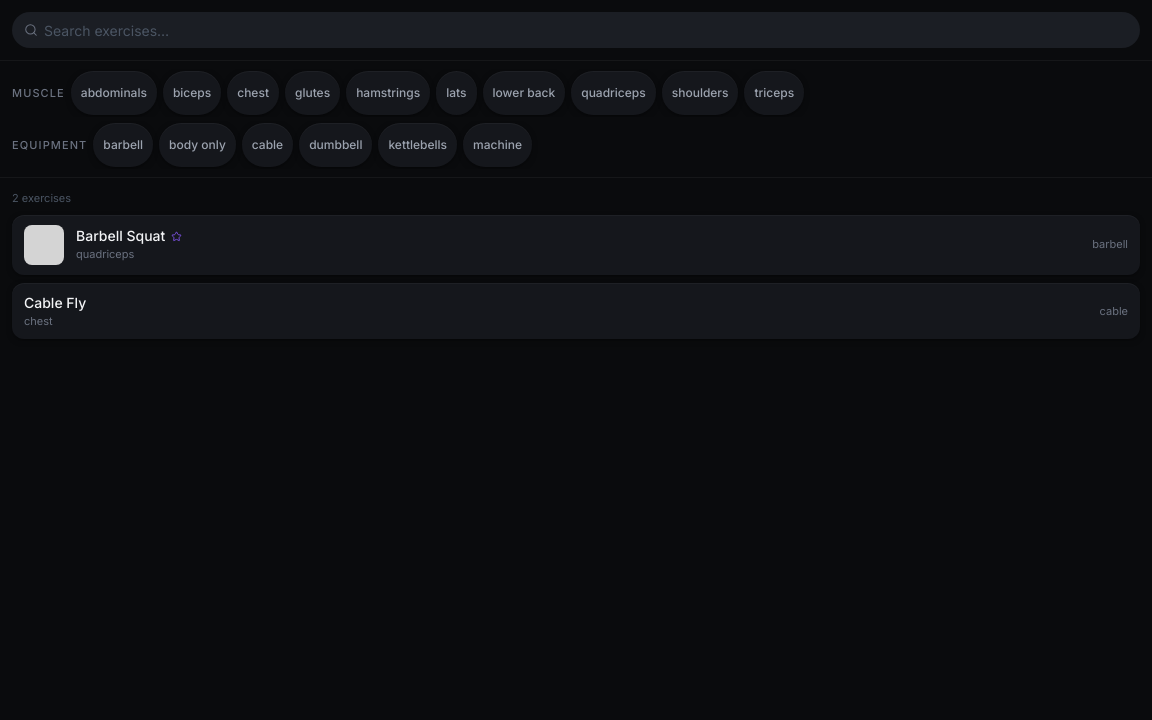
Test: ExerciseLibrary › P29: add custom exercise › creates a custom exercise from the empty-search state and selects it immediately
Expected: the button with test id "exercise-row-barbell-squat" is shown, [12,214,1140,274]
Type "nonexistent-exercise-zzz" into the search field labelled "Search exercises" at (576, 30), box [12,12,1140,48]
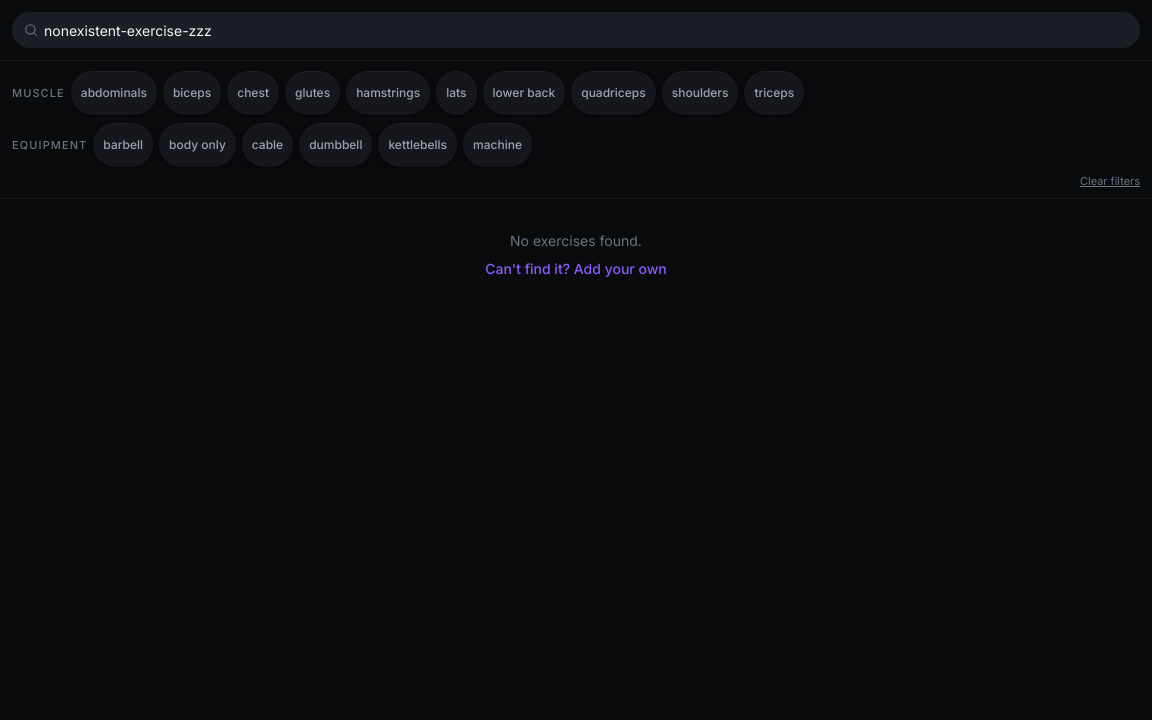
Now the button with test id "add-custom-exercise" is shown
Click the button with test id "add-custom-exercise" at (576, 268), box [485,258,667,278]
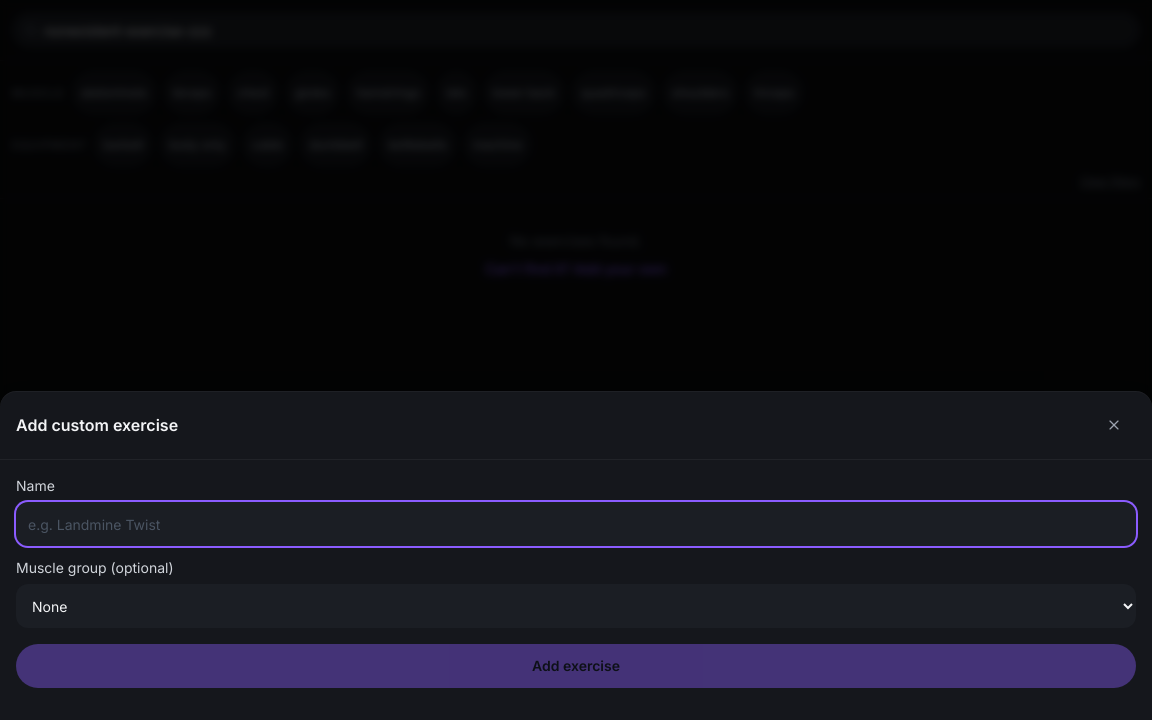
Type "Landmine Twist" into the field with placeholder "e.g. Landmine Twist" at (576, 524), box [16,502,1136,546]
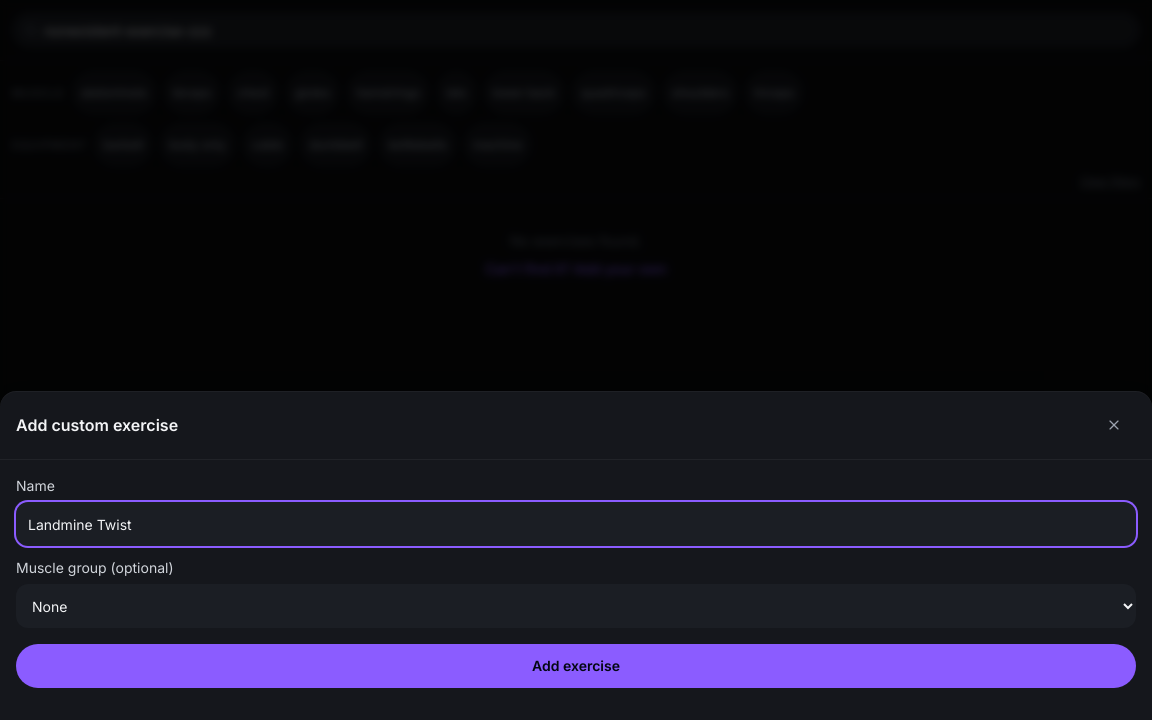
Click the button with test id "custom-exercise-submit" at (576, 666), box [16,644,1136,688]
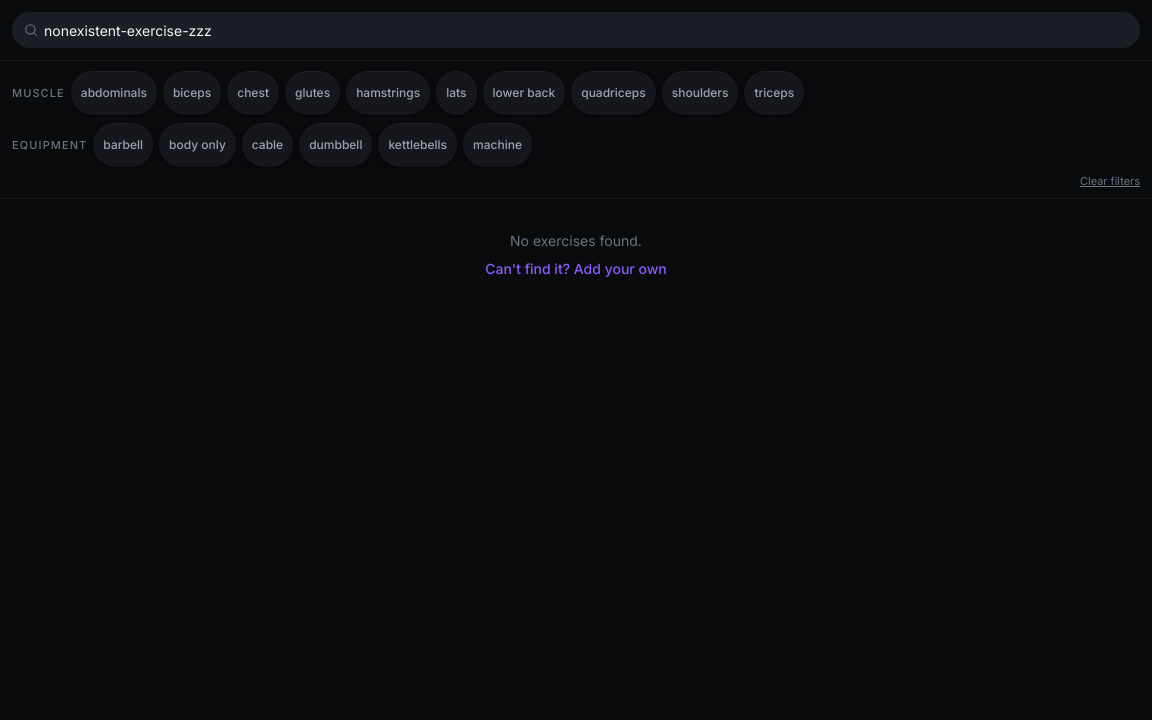
Now the dialog with test id "custom-exercise-sheet" is gone
